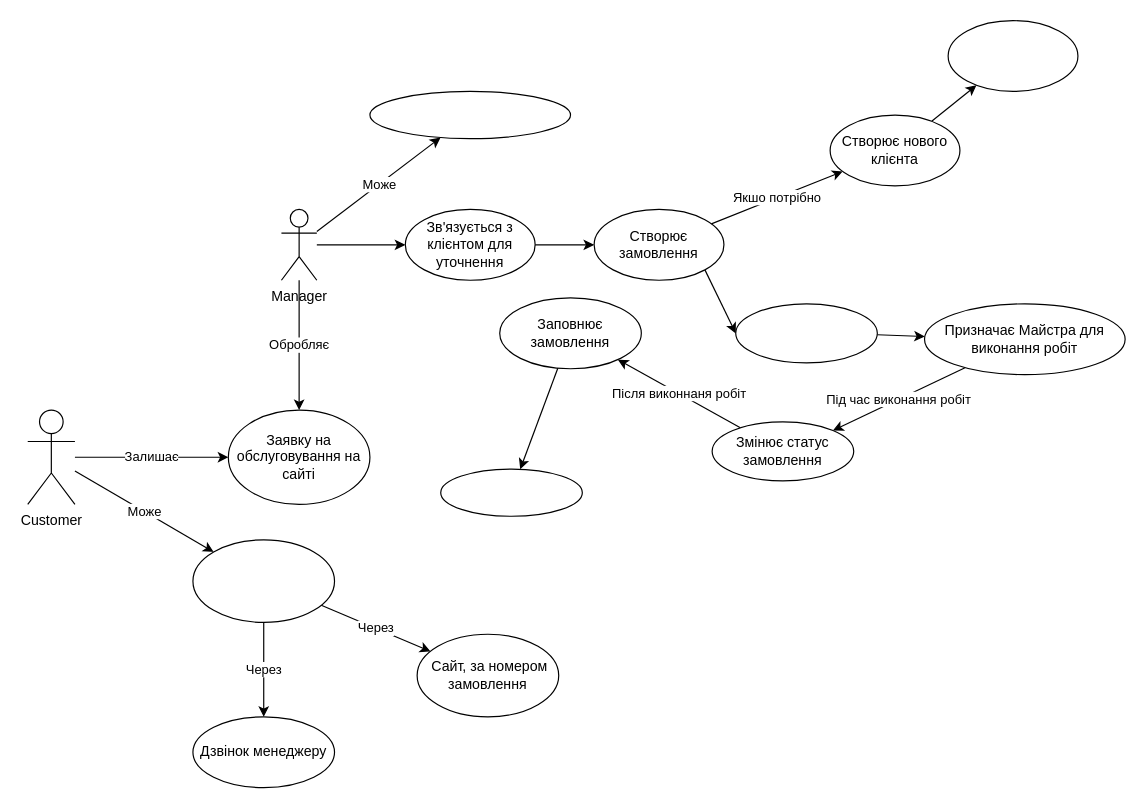
Image size: 1146x808. Some labels were removed from this diagram. The shapes that lost their labels are listed below. From the top down, each one's box as (x1, y1, x2, y2) in pixels, then its label:
(947, 19, 1078, 91): Вказує Машину клієнта
(369, 90, 571, 139): Додавати, видаляти, змінювати дані в БД
(735, 303, 877, 363): Призначає тип сервісу
(440, 468, 582, 516): Інформує клієнта
(192, 539, 335, 622): Перевірити статус обслуговування
